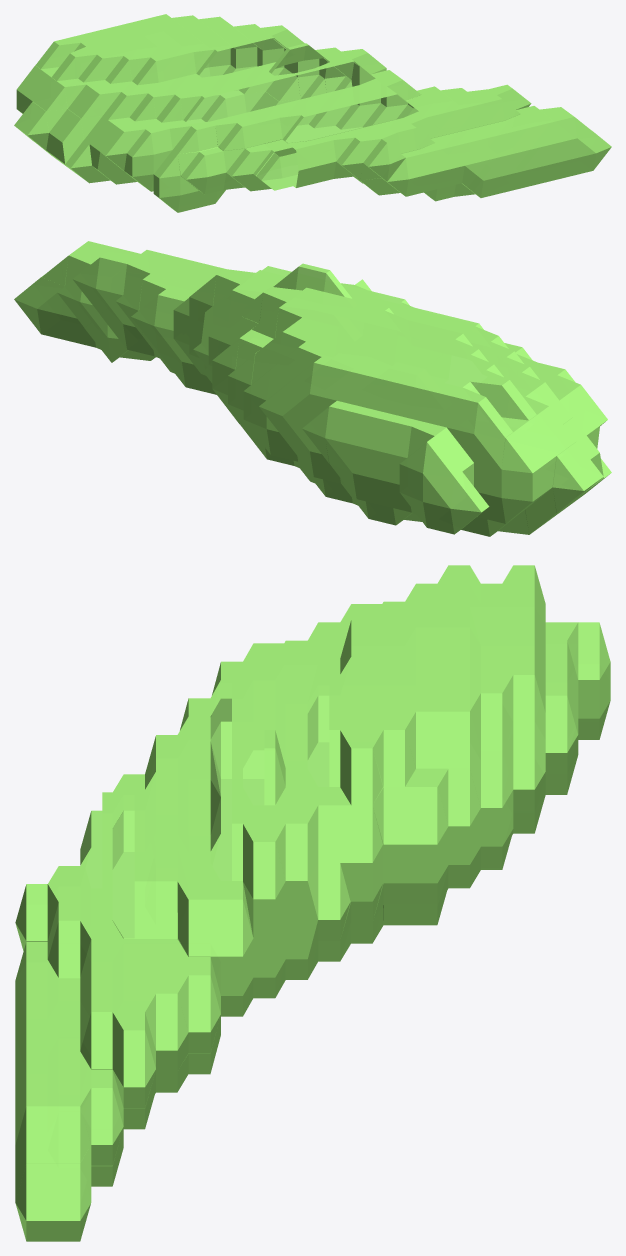
The model's file is SVV_BWM-VR07.gltf.
3 renders of one model, top to bottom at view 1: azimuth 30°, elevation 25°; view 2: azimuth 150°, elevation 25°; view 3: azimuth 270°, elevation 25°, orthographic. The views are drawn at different scales.
Parts seen in each view (by area): view 1: BWM-VR07; view 2: BWM-VR07; view 3: BWM-VR07.
Boxes of the visible parts, x1,y1,x2,y2 form: BWM-VR07: [14, 14, 611, 212]; BWM-VR07: [14, 241, 611, 536]; BWM-VR07: [15, 565, 610, 1241].
Bounding box in the file's own units: 13314 × 3577 × 7044.
